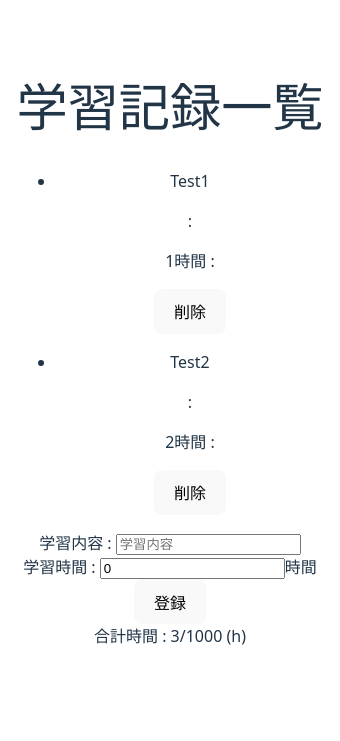
App.tsxテスト › フォームに学習内容と時間を入力して登録ボタンを押すと新たに記録が追加されていること
The width and height of the screenshot is (340, 741).
Expected: the heading "学習記録一覧" is shown, [16,78,324,134]
Type "Test3" into the field with placeholder "学習内容" at (208, 544), box [116,534,301,555]
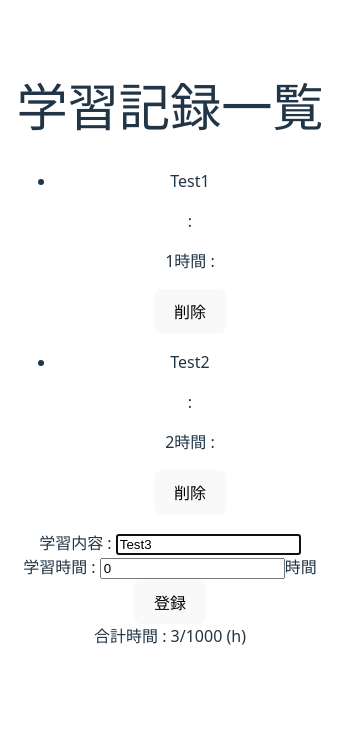
Type "10" into the number field with placeholder "学習時間" at (192, 568), box [100,558,285,579]
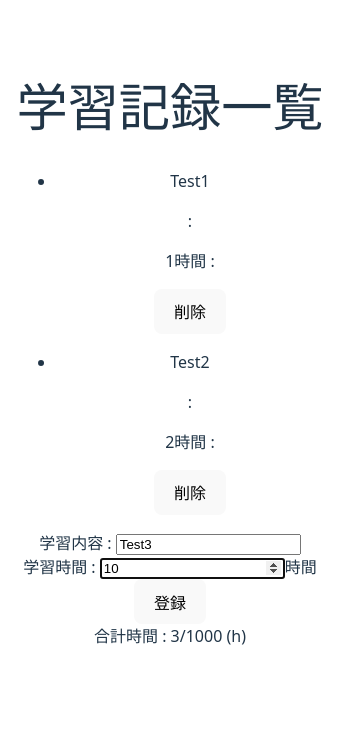
Click the button "登録" at (170, 602), box [134,579,206,624]
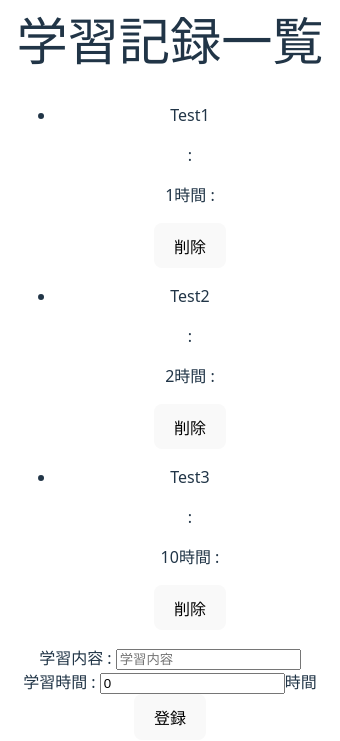
Result: the number of list items is 3 at [154,104,226,268]; [154,285,226,449]; [154,466,226,630]
